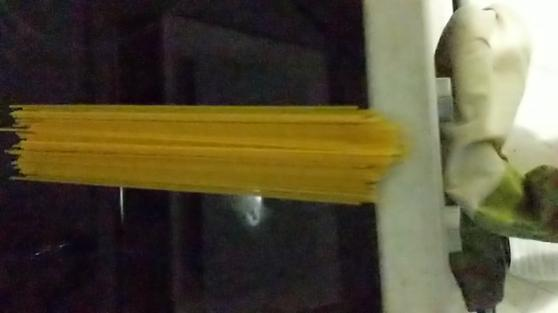spaghetti: (1, 97, 415, 216)
